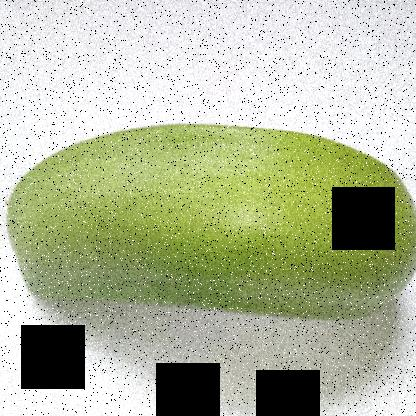freshunripe: (3, 110, 415, 321)
